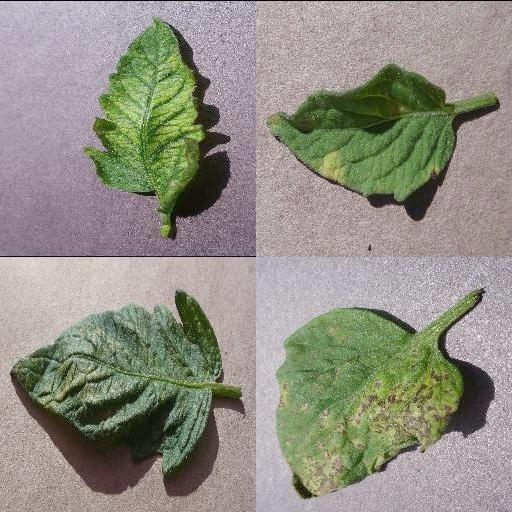Leaf Mold: (264, 64, 456, 200)
Mosaic Virus: (80, 16, 204, 210)
Septoria: (275, 305, 463, 496)
Spider Mites: (10, 290, 224, 476)
